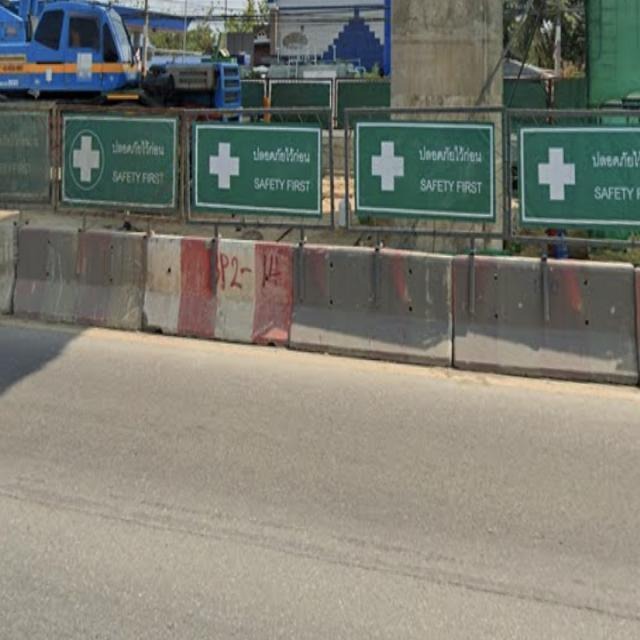fallen_object: (422, 220, 636, 403), (282, 237, 451, 370), (125, 232, 304, 356), (0, 211, 155, 340)
